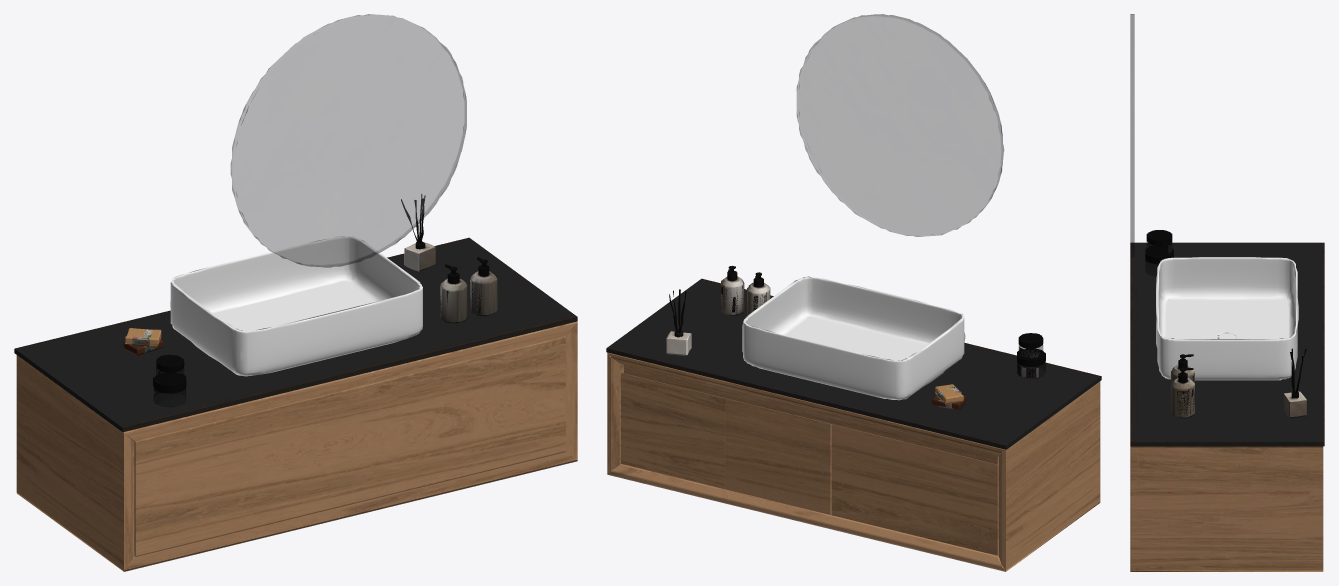
Rendered from furniture_1.glb.
The picture shows the model from 3 angles, left to right: view 1: azimuth 30°, elevation 25°; view 2: azimuth 150°, elevation 25°; view 3: azimuth 270°, elevation 25°; orthographic projection. The views are drawn at different scales.
Parts seen in each view (by area): view 1: GF_WOOD STAND.001, GF_mirror.001, GF_basin.001, GF_bootle3.001, GF_bootle2.001, GF_crema2.001, GF_diffuser.001, GF_crema.001; view 2: GF_WOOD STAND.001, GF_mirror.001, GF_basin.001, GF_bootle2.001, GF_bootle3.001; view 3: GF_WOOD STAND.001, GF_basin.001, GF_mirror.001, GF_bootle2.001, GF_crema.001, GF_crema2.001, GF_diffuser.001, GF_bootle3.001.
Boxes of the visible parts, box(x1,y1,x2,y2) form: GF_WOOD STAND.001: box(14, 237, 577, 571); GF_mirror.001: box(231, 14, 466, 267); GF_basin.001: box(170, 236, 422, 376); GF_bootle3.001: box(440, 264, 467, 323); GF_bootle2.001: box(470, 257, 497, 316); GF_crema2.001: box(153, 372, 186, 406); GF_diffuser.001: box(404, 241, 435, 271); GF_crema.001: box(156, 354, 184, 384); GF_WOOD STAND.001: box(606, 278, 1101, 571); GF_mirror.001: box(796, 14, 1003, 236); GF_basin.001: box(742, 276, 965, 400); GF_bootle2.001: box(721, 265, 744, 315); GF_bootle3.001: box(747, 272, 770, 315); GF_WOOD STAND.001: box(1130, 242, 1324, 571); GF_basin.001: box(1156, 257, 1298, 380); GF_mirror.001: box(1130, 14, 1134, 257); GF_bootle2.001: box(1171, 367, 1194, 418); GF_crema.001: box(1146, 230, 1172, 256); GF_crema2.001: box(1145, 245, 1173, 276); GF_diffuser.001: box(1284, 391, 1306, 418); GF_bootle3.001: box(1171, 354, 1194, 384).
Bounding box in the file's own units: 1.22 × 1.28 × 0.5039.
17 materials, 11 textured.
